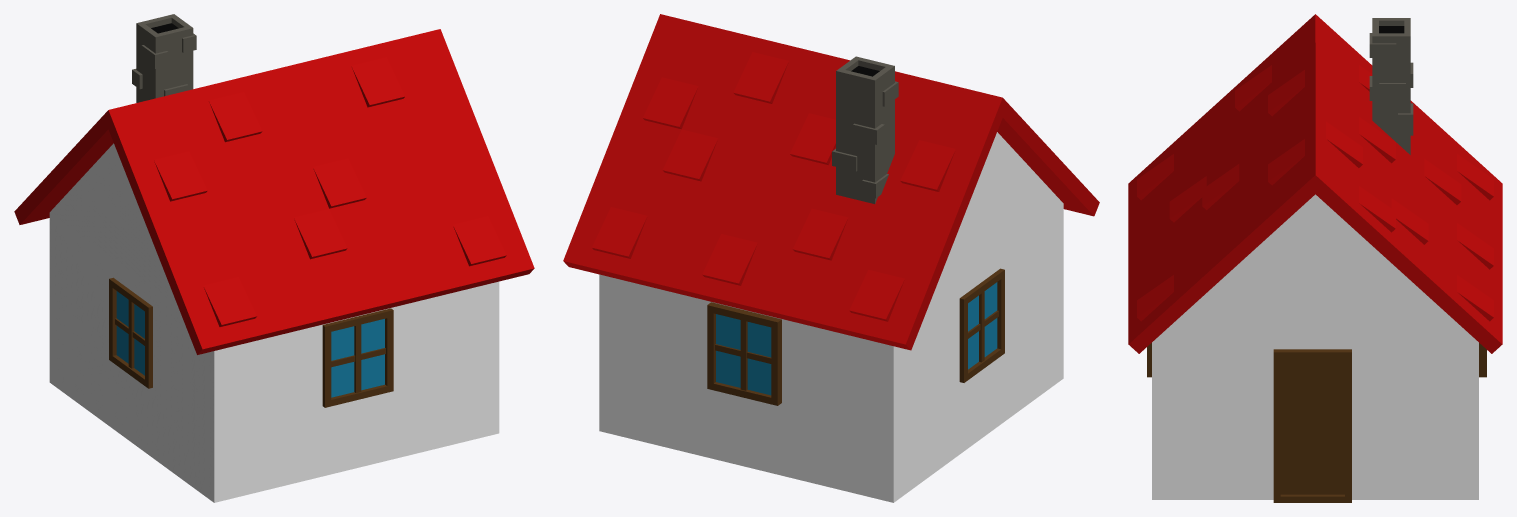
Rendered from CityHouse_01.fbx.
The picture shows the model from 3 angles, left to right: view 1: azimuth 30°, elevation 25°; view 2: azimuth 150°, elevation 25°; view 3: azimuth 270°, elevation 25°; orthographic projection. The views are drawn at different scales.
Parts seen in each view (by area): view 1: CityHouse_01; view 2: CityHouse_01; view 3: CityHouse_01.
Part boxes in pixels (x1,y1,x2,y2): CityHouse_01: (14, 14, 534, 502); CityHouse_01: (563, 14, 1099, 502); CityHouse_01: (1128, 14, 1502, 502).
Size of the model in its own units: 0.6333 by 0.6771 by 0.6216.
